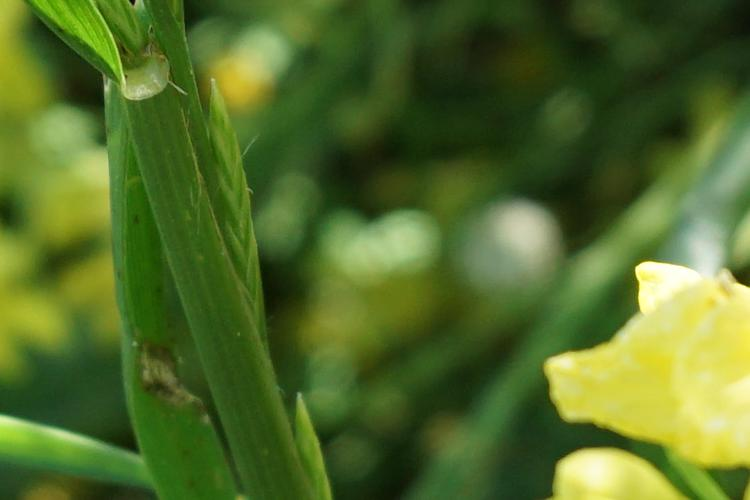yellow: (542, 245, 746, 469)
